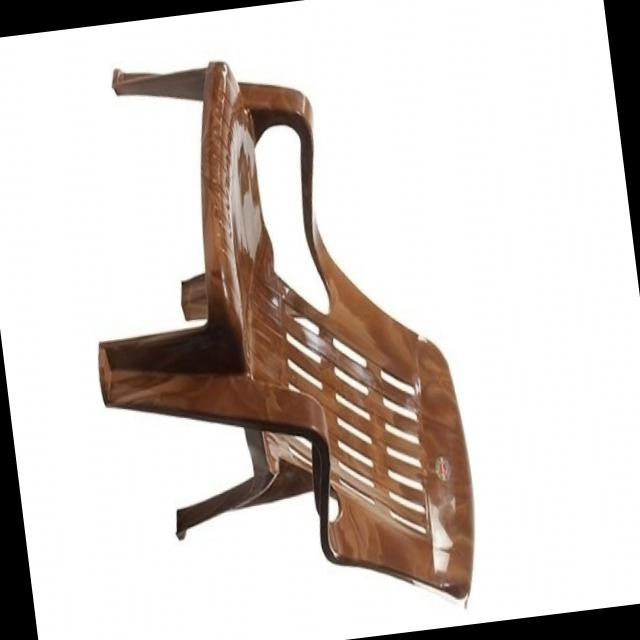Chair: (56, 8, 487, 640)
